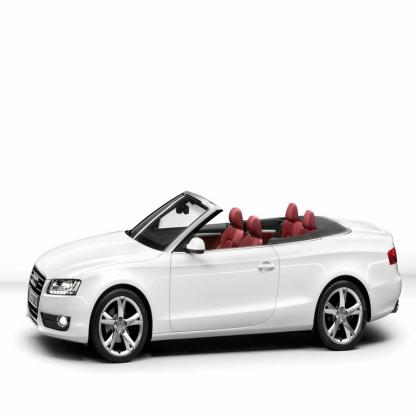Vehicle: (28, 192, 403, 362)
